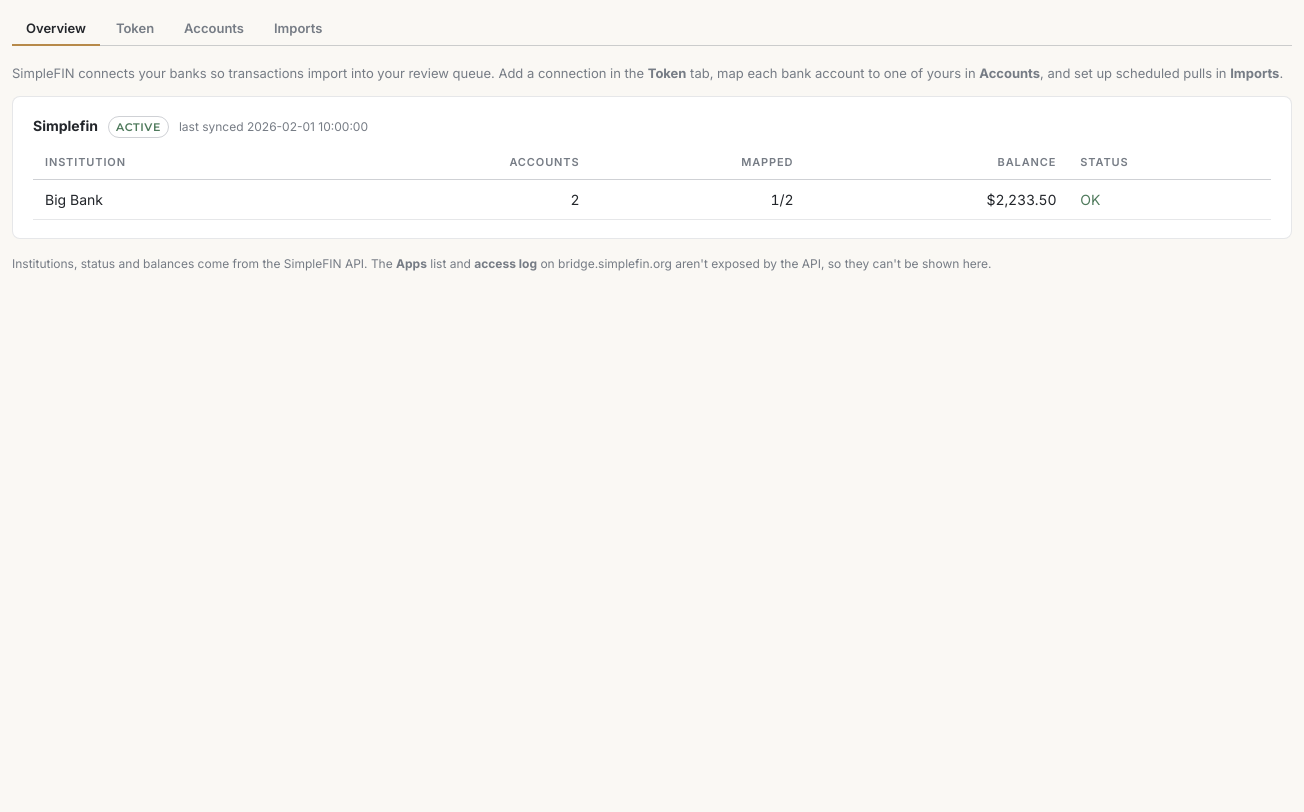
Test: LinkedAccounts › handles a stream error event during refresh
Expected: the text "Big Bank" is shown, top-left (33, 179), bottom-right (327, 219)
Click the button "Accounts" at [214, 29], box top-left (170, 12), bottom-right (258, 46)
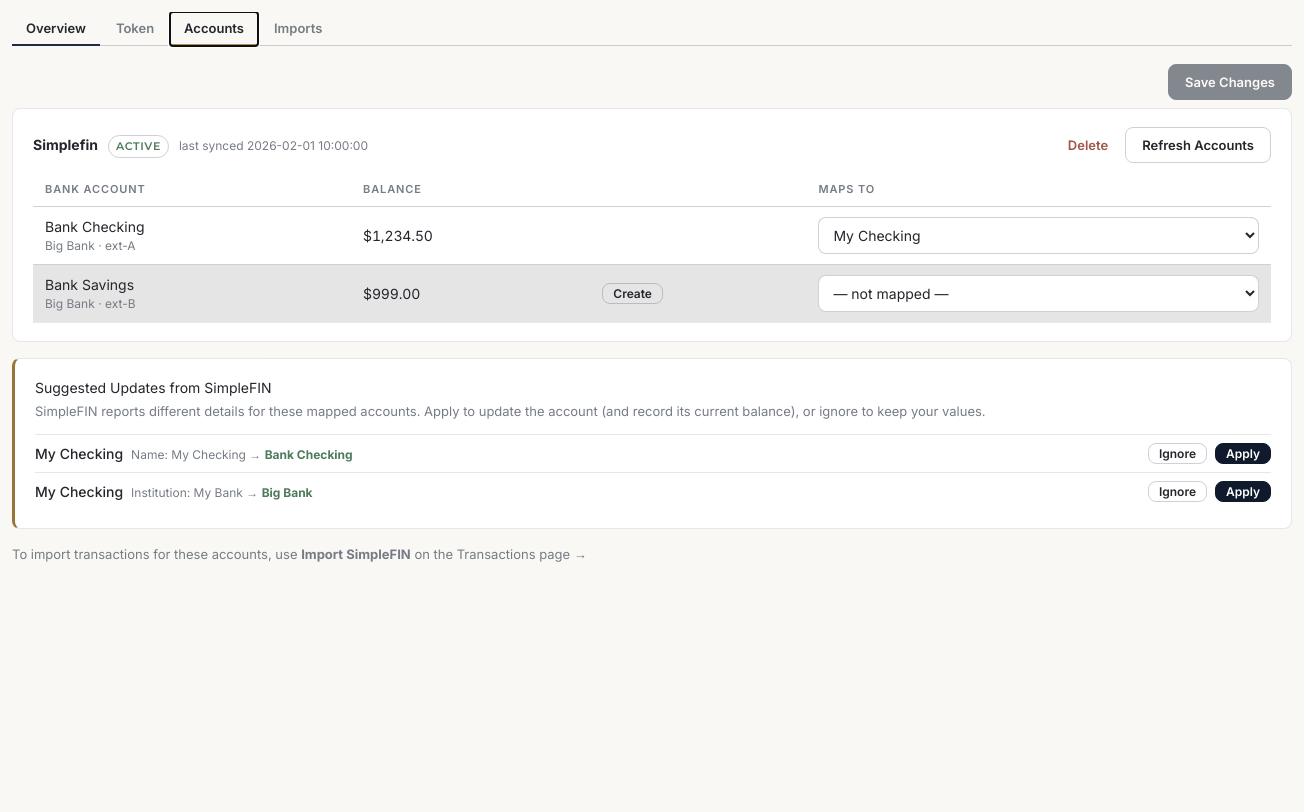
Click the button "Refresh Accounts" at [1198, 145], box top-left (1125, 127), bottom-right (1271, 163)
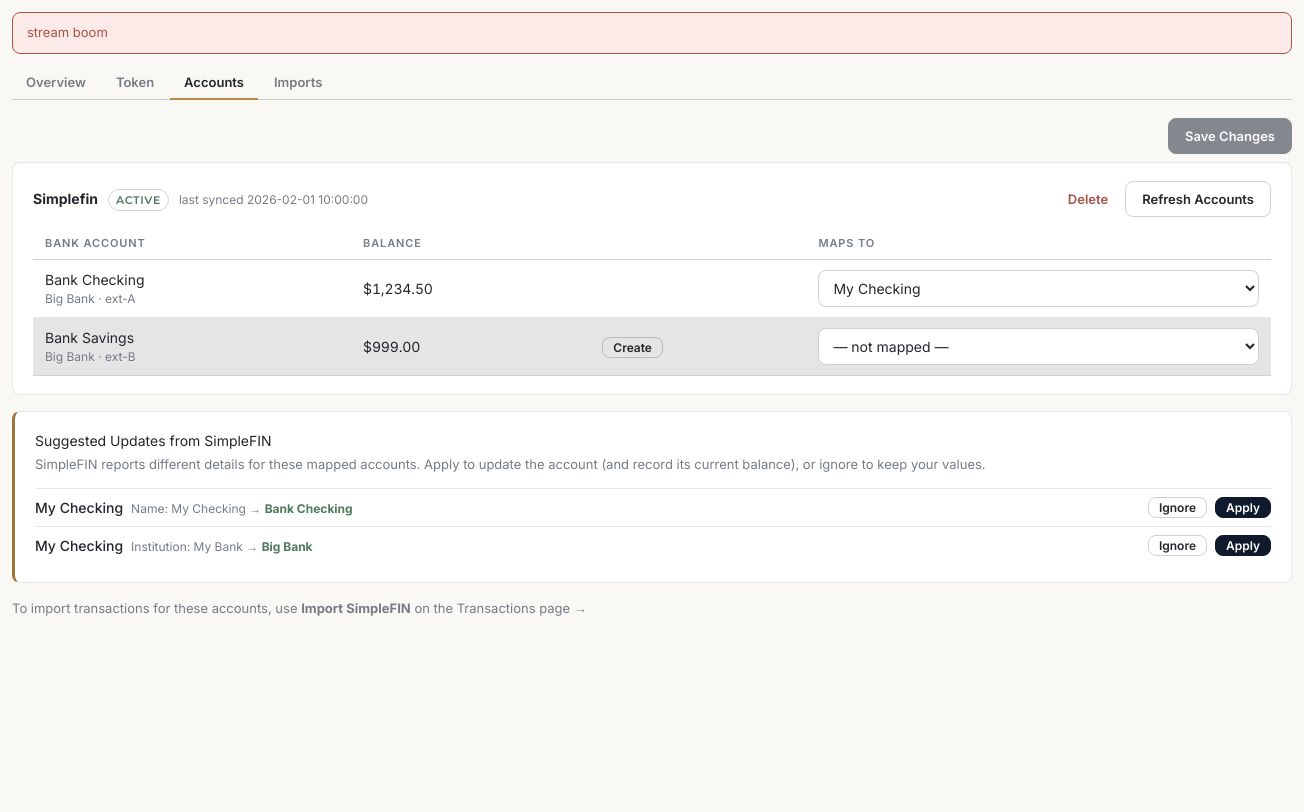
Expected: the text "stream boom" is shown, top-left (12, 12), bottom-right (1292, 54)
